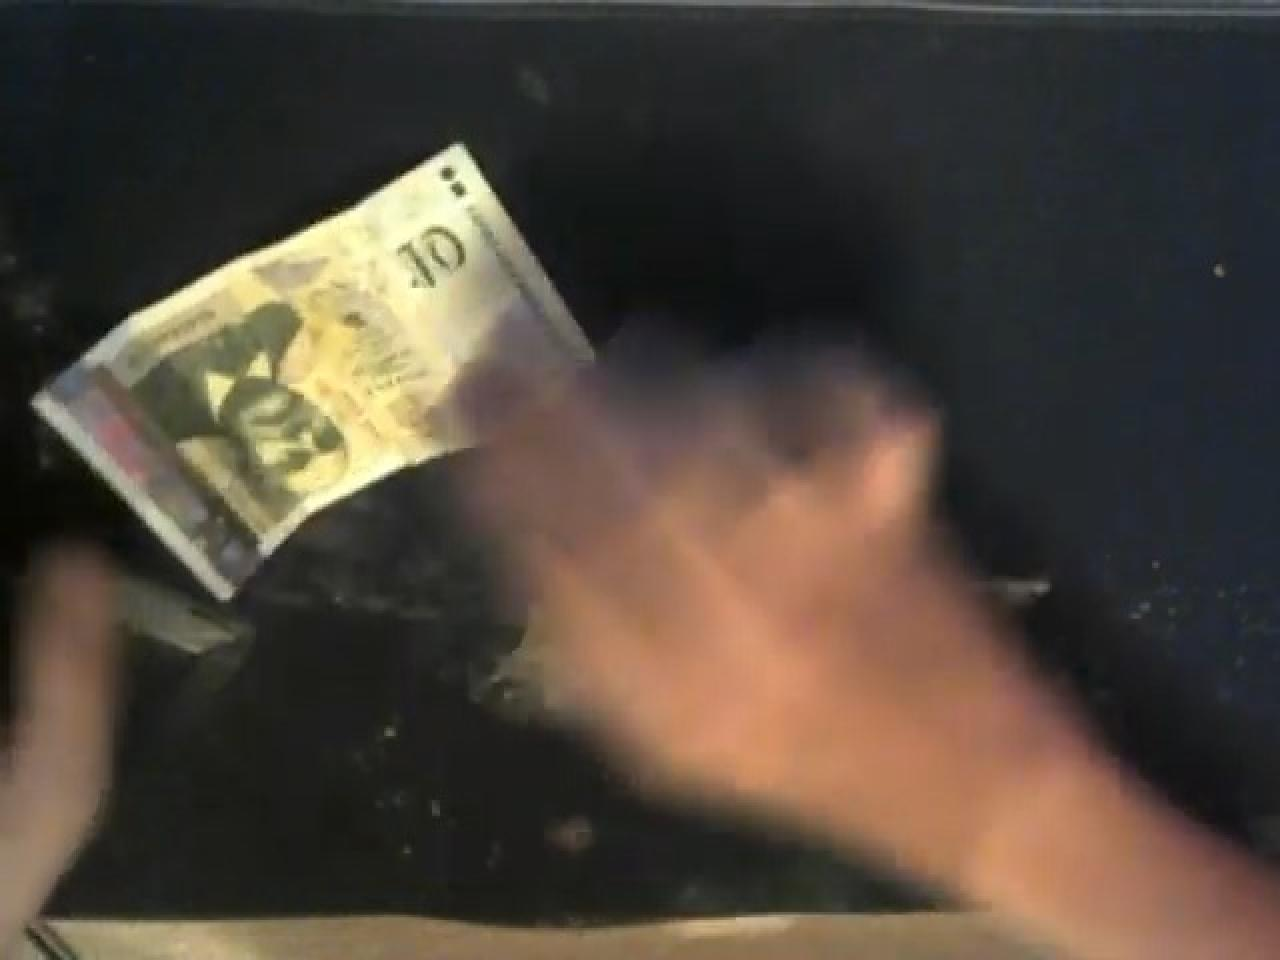10leva: (134, 296, 369, 500), (376, 211, 491, 315)
